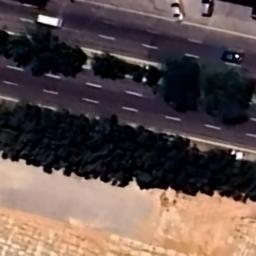others: (36, 14, 64, 28)
sedan: (170, 0, 184, 22), (222, 51, 244, 63), (201, 0, 213, 16)
